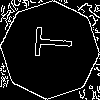T: (25, 25, 73, 60)
